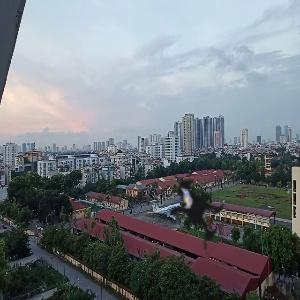drone: (128, 135, 277, 284)
